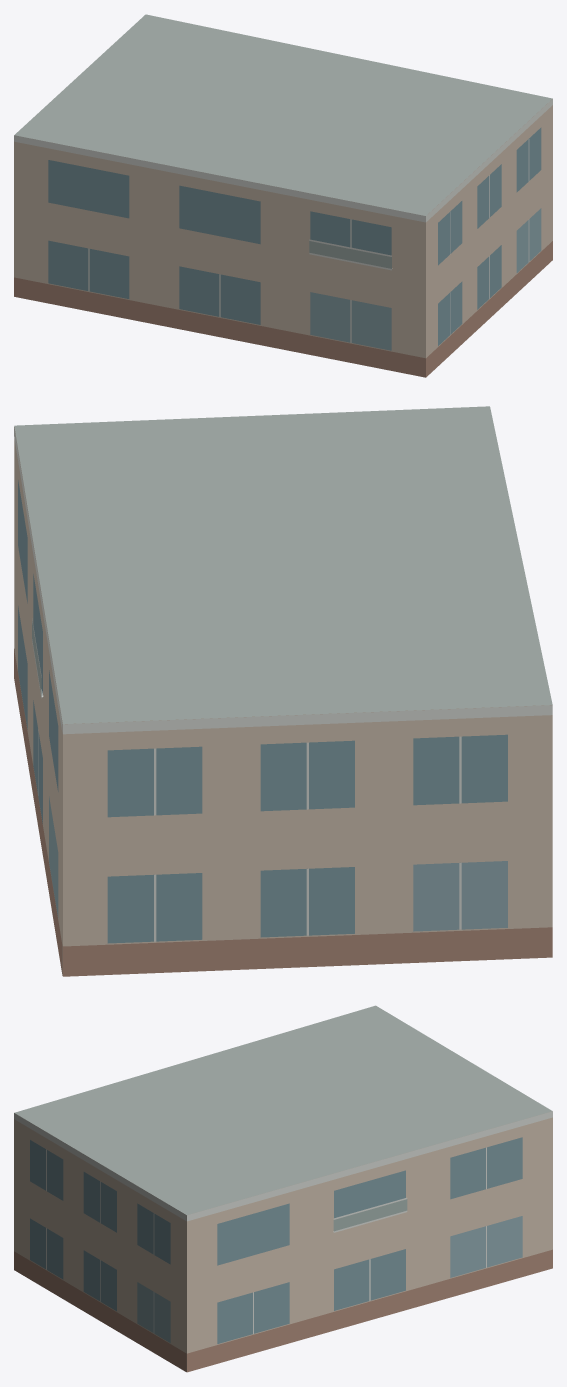
File: survey-upis-32957667.glb
3 views of the same model, one above another, from view 1: azimuth 30°, elevation 25°; view 2: azimuth 150°, elevation 25°; view 3: azimuth 270°, elevation 25° (orthographic). The views are drawn at different scales.
Parts seen in each view (by area): view 1: survey-upis-32957667.tmp; view 2: survey-upis-32957667.tmp; view 3: survey-upis-32957667.tmp.
Boxes of the visible parts, x1,y1,x2,y2 form: survey-upis-32957667.tmp: (14,14,552,377); survey-upis-32957667.tmp: (14,406,552,976); survey-upis-32957667.tmp: (14,1005,552,1372).
Bounding box in the file's own units: 17.46 × 6.1 × 18.96.
